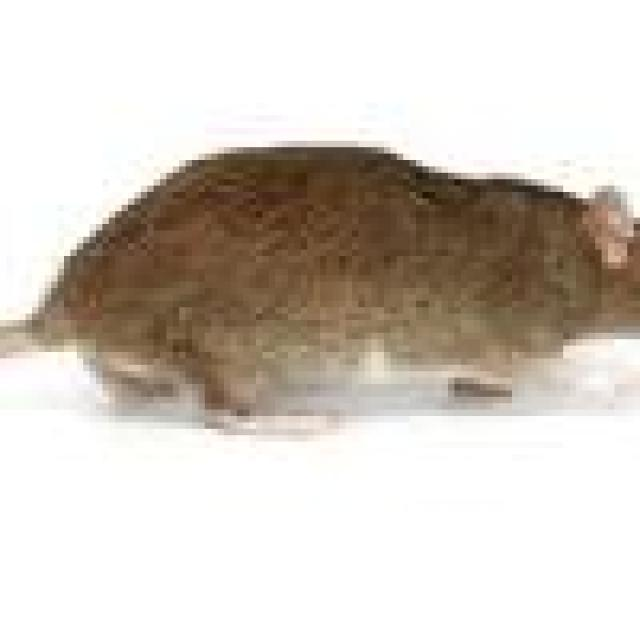rat: (36, 140, 640, 453)
